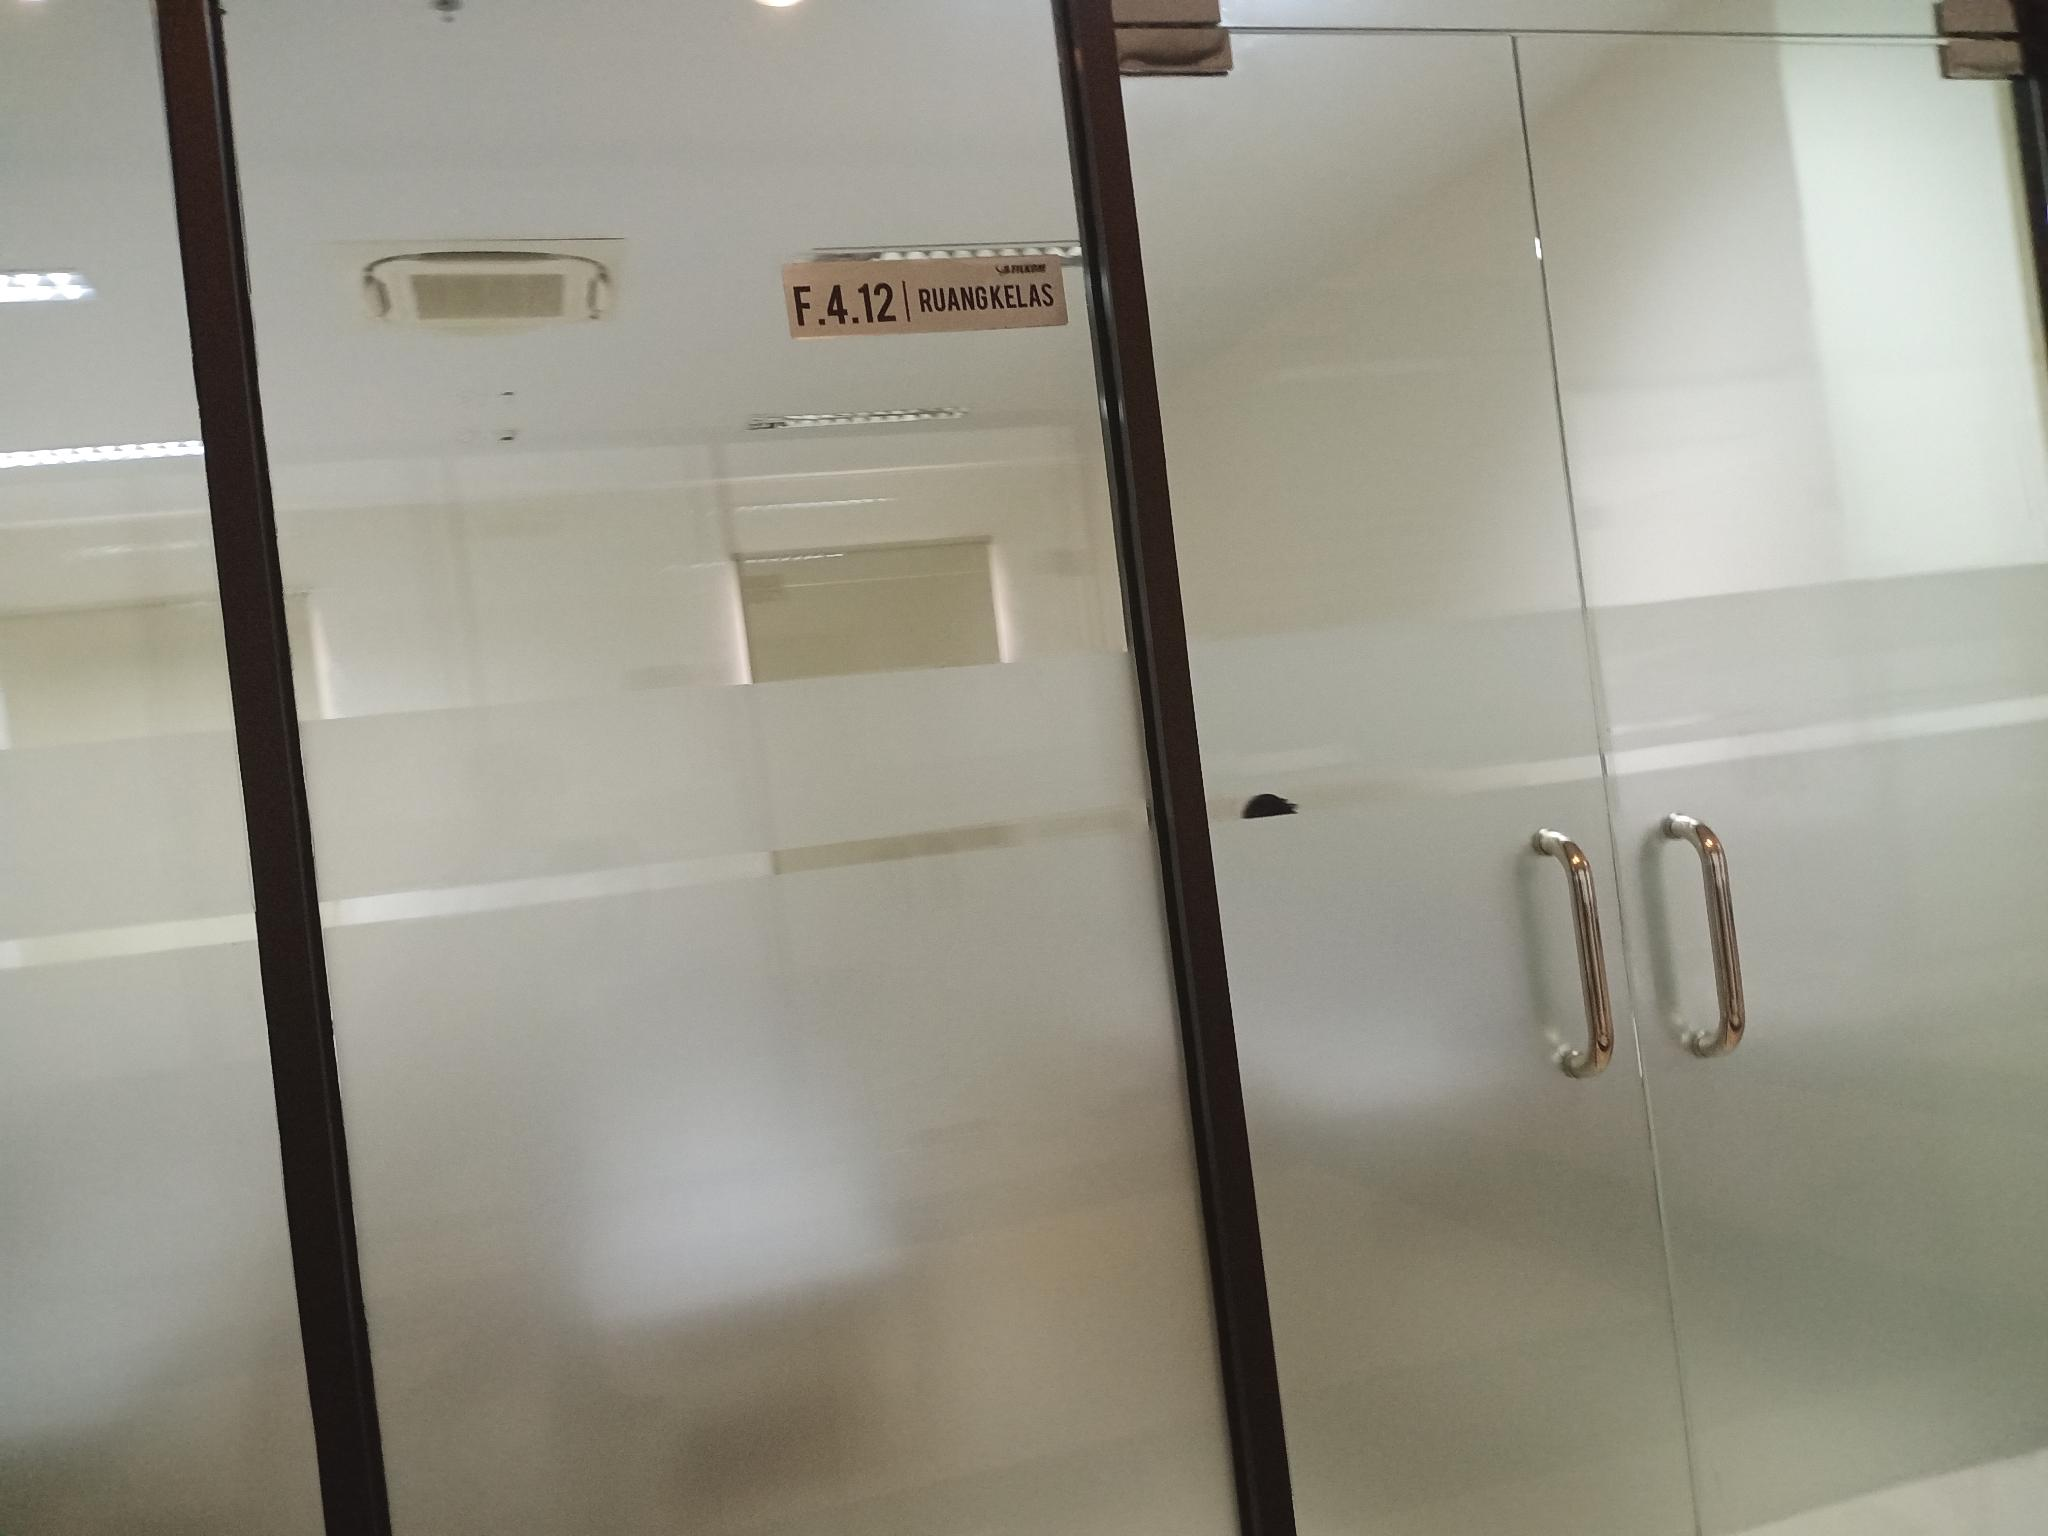plate: (784, 253, 1069, 340)
